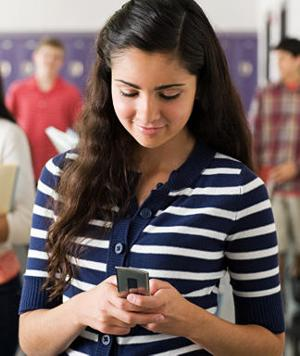person: (19, 3, 285, 355)
